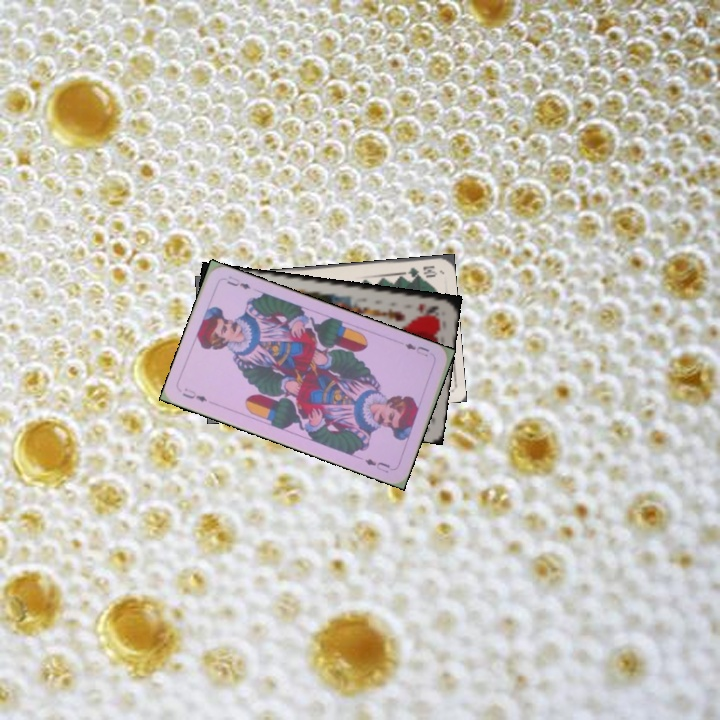EU: (178, 384, 210, 404), (401, 339, 432, 359)
G10: (398, 261, 439, 281)
HK: (413, 299, 441, 316)
